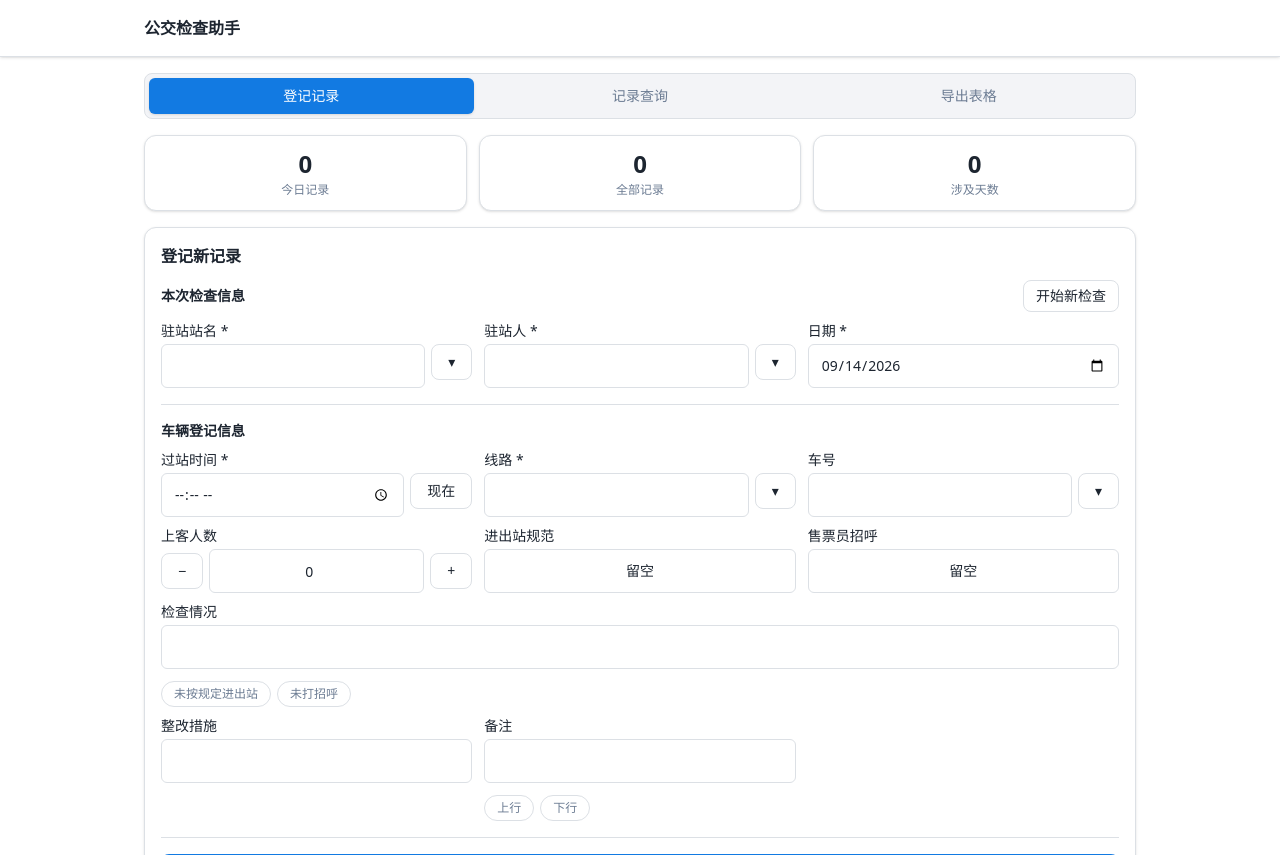
Test: 驻站登记 › 站点选择器只显示未停用站点
Click the button named "选择站点" at (452, 362), box [431, 344, 472, 380]
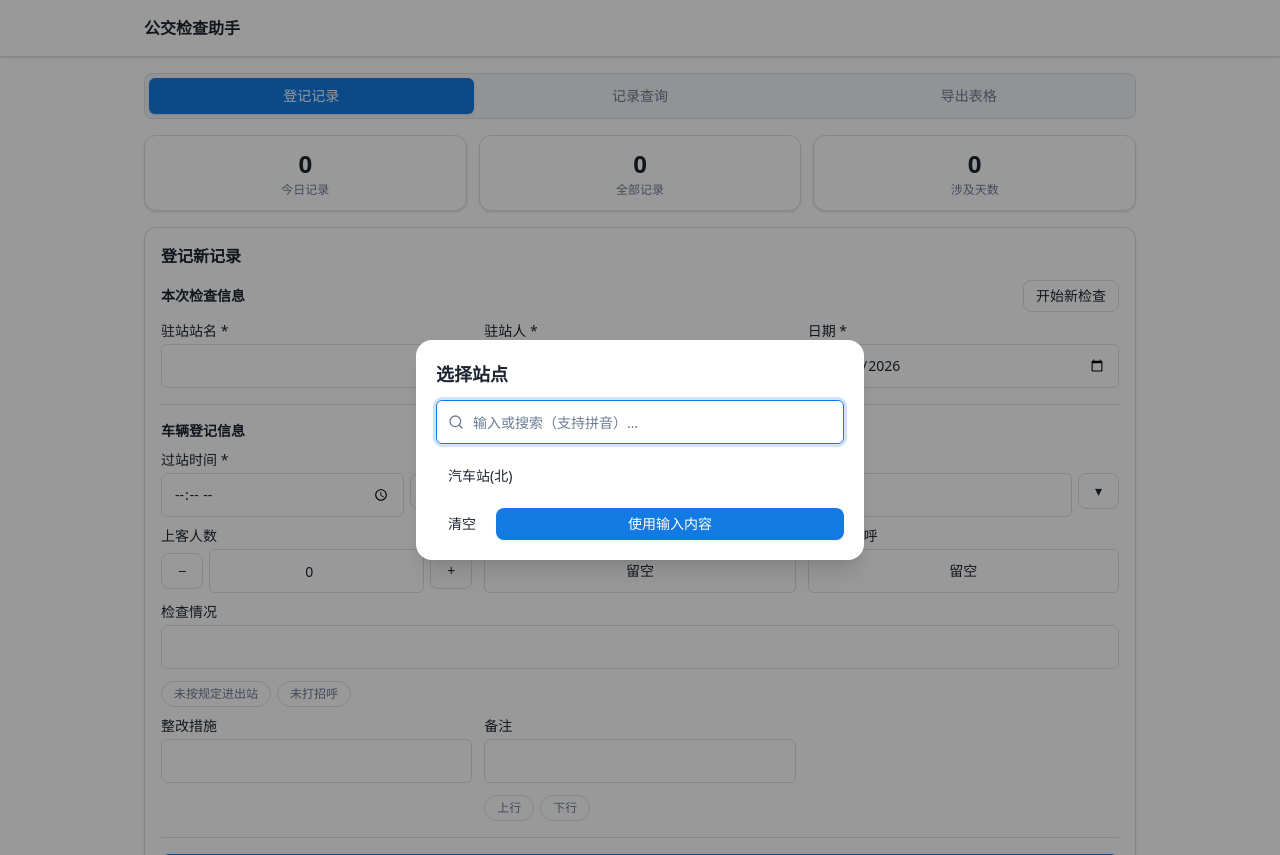
Result: the button "汽车站(北)" is shown at [436, 456, 844, 496]
